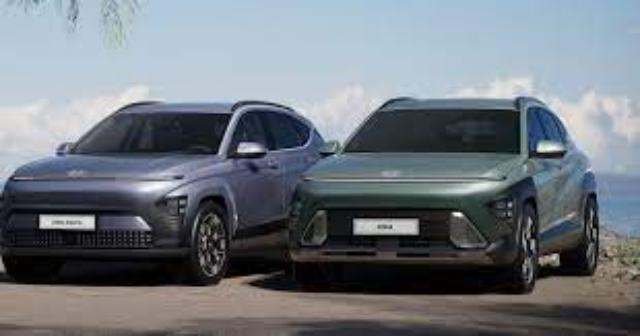hyundai: (288, 97, 600, 293), (0, 100, 324, 286)
